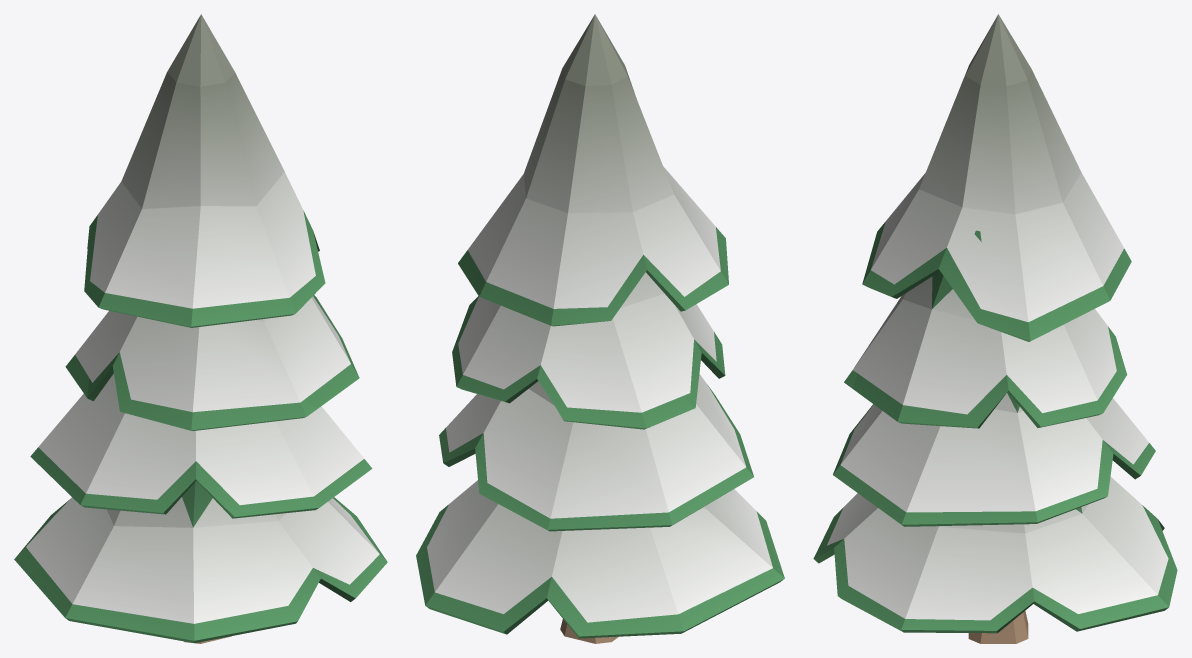
Rendered from SnowPine5.fbx.
The picture shows the model from 3 angles, left to right: view 1: azimuth 30°, elevation 25°; view 2: azimuth 150°, elevation 25°; view 3: azimuth 270°, elevation 25°; orthographic projection.
Parts seen in each view (by area): view 1: SnowPine5; view 2: SnowPine5; view 3: SnowPine5.
Part boxes in pixels (x1,y1,x2,y2): SnowPine5: (14, 14, 387, 643); SnowPine5: (416, 14, 784, 643); SnowPine5: (813, 14, 1177, 643).
Size of the model in its own units: 503 by 931 by 498.
